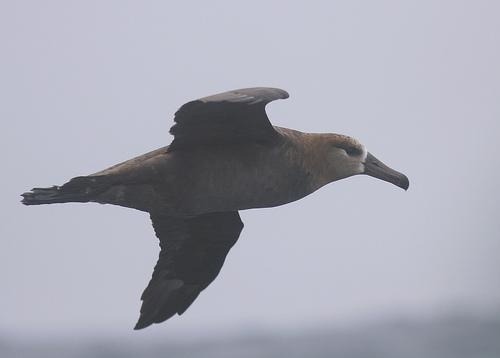bird: (16, 85, 410, 330)
